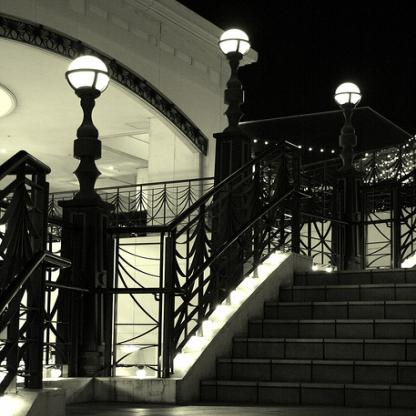stairs: (280, 290, 412, 410)
